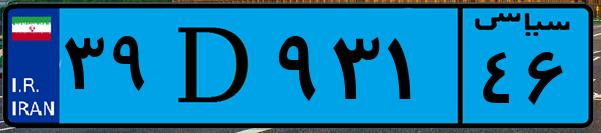1: (385, 28, 445, 110)
3: (330, 28, 385, 110), (57, 26, 110, 100)
4: (475, 38, 525, 113)
6: (525, 38, 570, 115)
9: (270, 28, 330, 110), (110, 28, 158, 98)
D: (158, 12, 270, 120)
